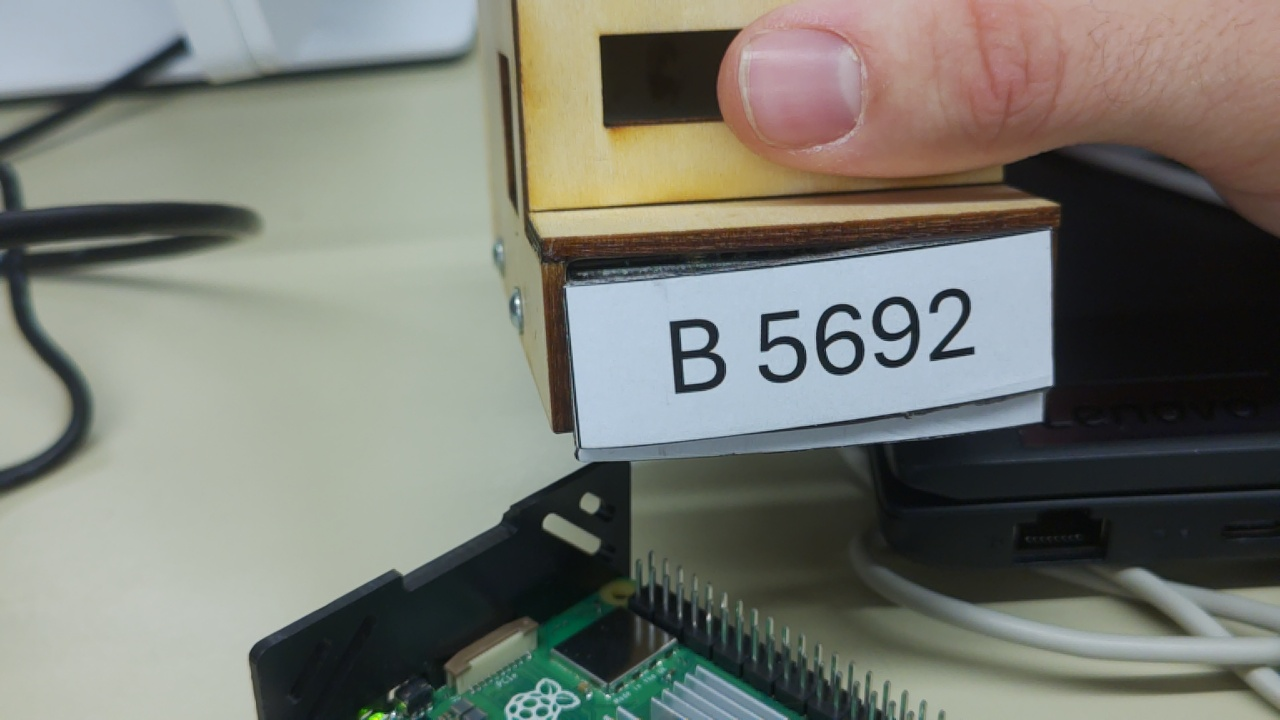license_plate: (549, 224, 1073, 454)
